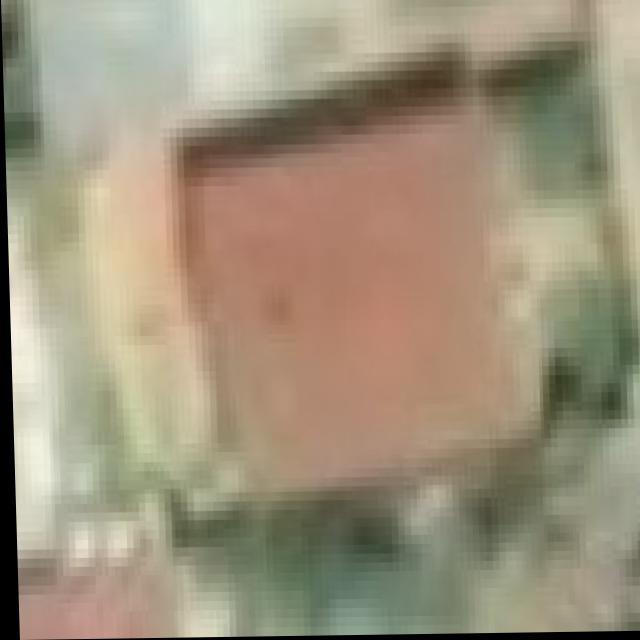Batiment: (177, 110, 566, 475)
